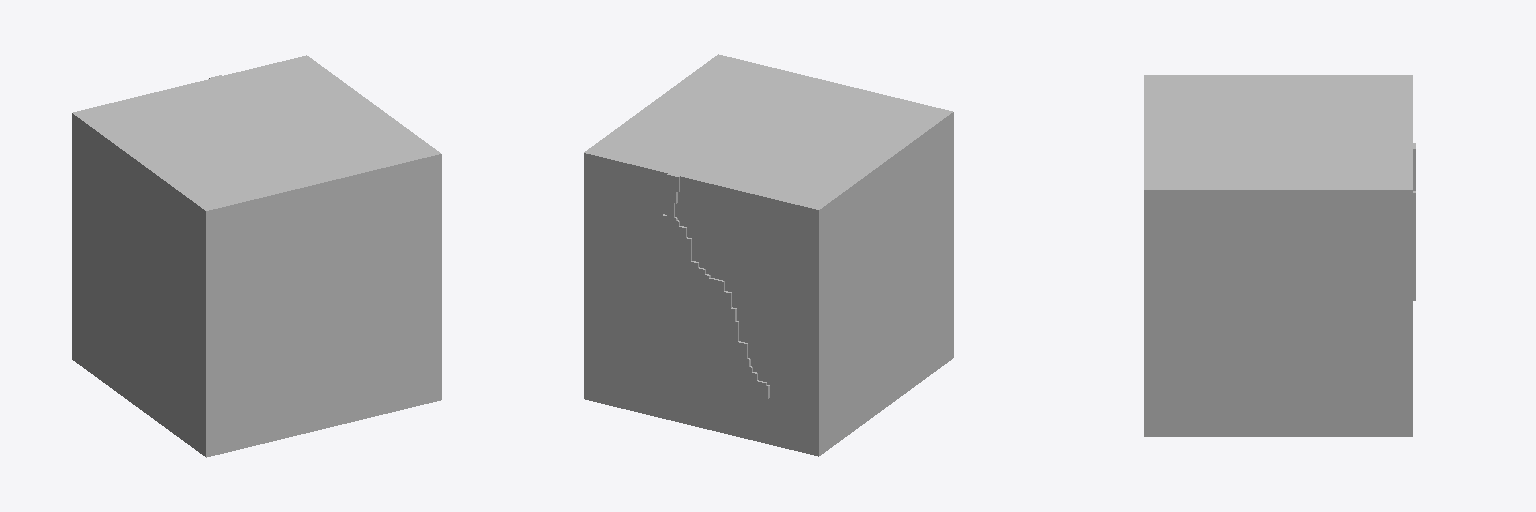
The model's file is world.obj.
3 renders of one model, left to right at view 1: azimuth 30°, elevation 25°; view 2: azimuth 150°, elevation 25°; view 3: azimuth 270°, elevation 25°, orthographic.
Size of the model in its own units: 100 by 100 by 100.